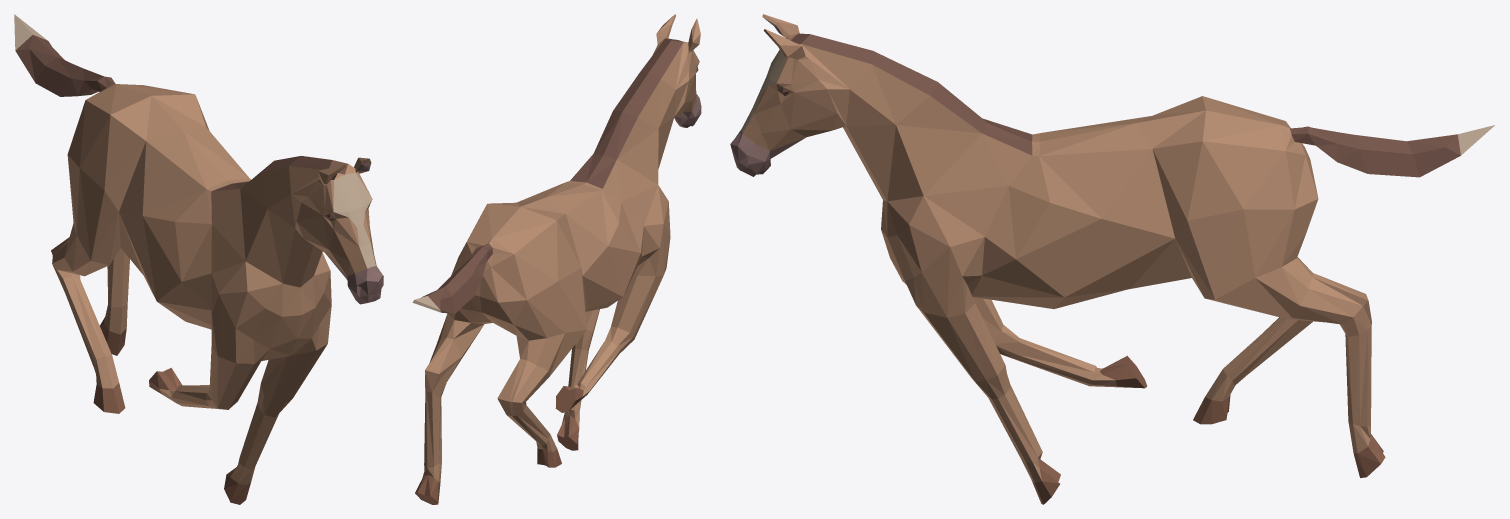
3 views of the same model, side by side, from view 1: azimuth 30°, elevation 25°; view 2: azimuth 150°, elevation 25°; view 3: azimuth 270°, elevation 25° (orthographic). The views are drawn at different scales.
Parts seen in each view (by area): view 1: mesh_0; view 2: mesh_0; view 3: mesh_0.
Part boxes in pixels (x1,y1,x2,y2): mesh_0: (14,14,383,504); mesh_0: (412,14,701,504); mesh_0: (730,14,1494,504).
Size of the model in its own units: 66.13 by 197 by 286.
